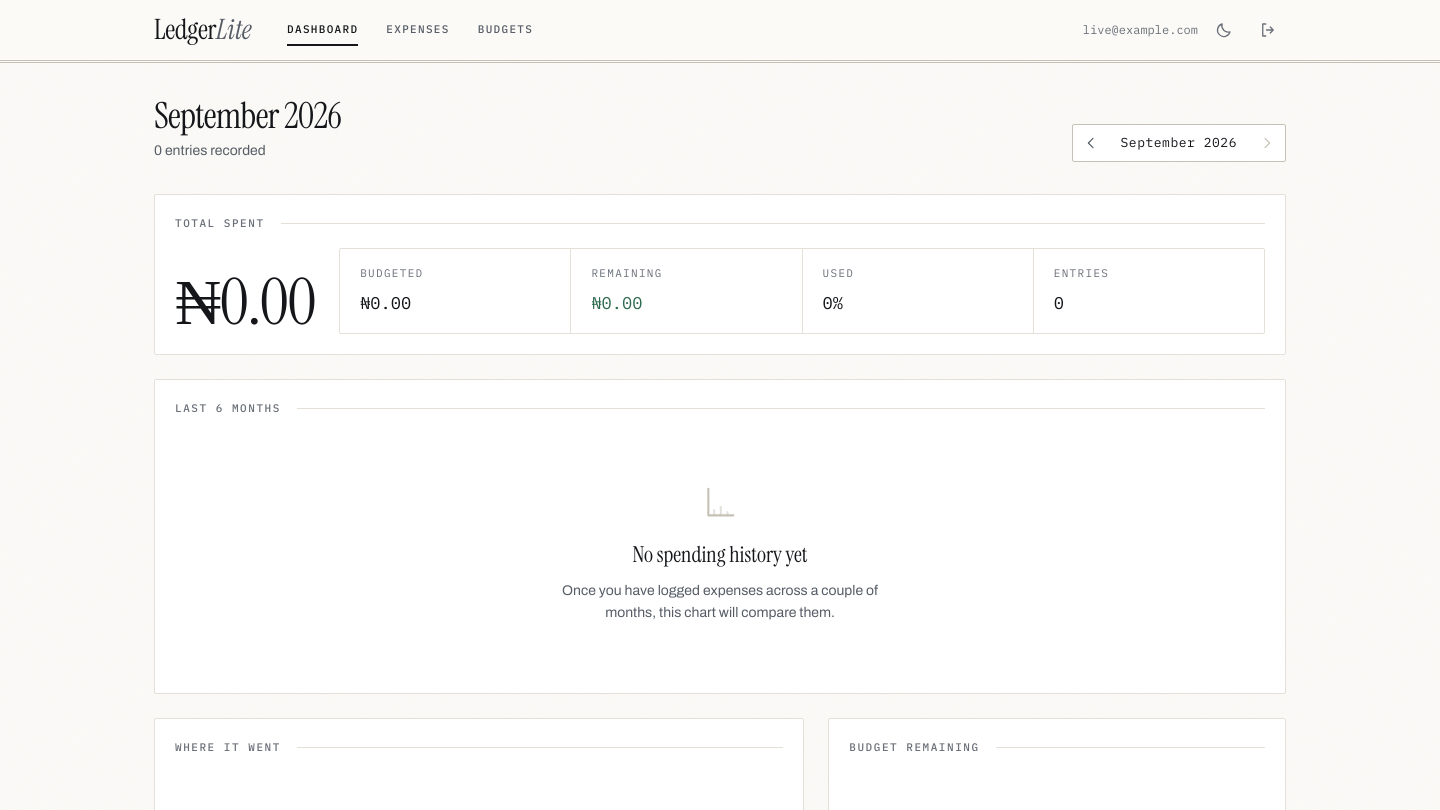
signing in and out › signs out back to the sign-in screen
Expected: the navigation bar named "Main" is shown, x1=287 y1=22 x2=533 y2=36
Click the button named "Sign out": (1268, 30) x1=1250 y1=12 x2=1286 y2=48
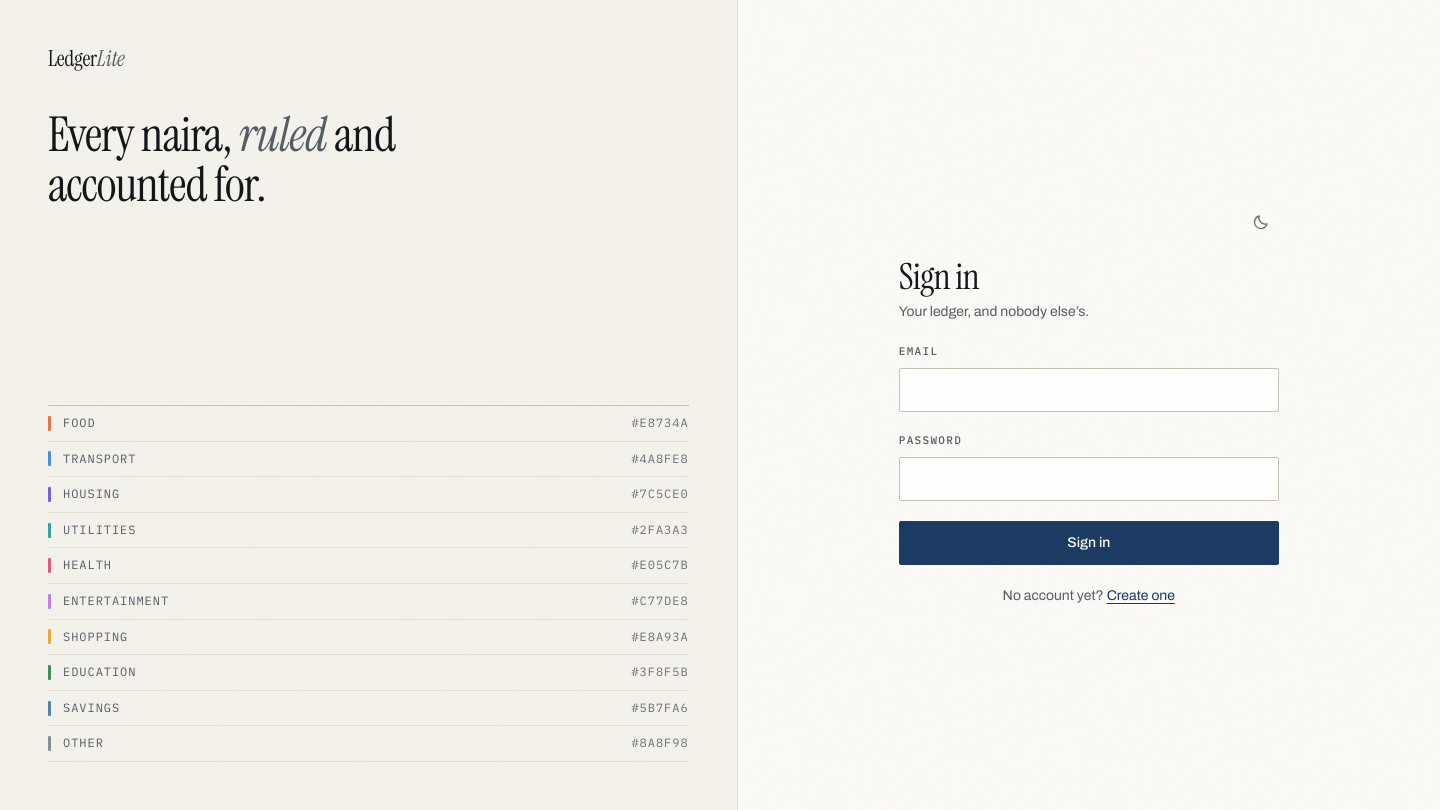
Expected: the heading "Sign in" is shown, x1=899 y1=253 x2=979 y2=300
